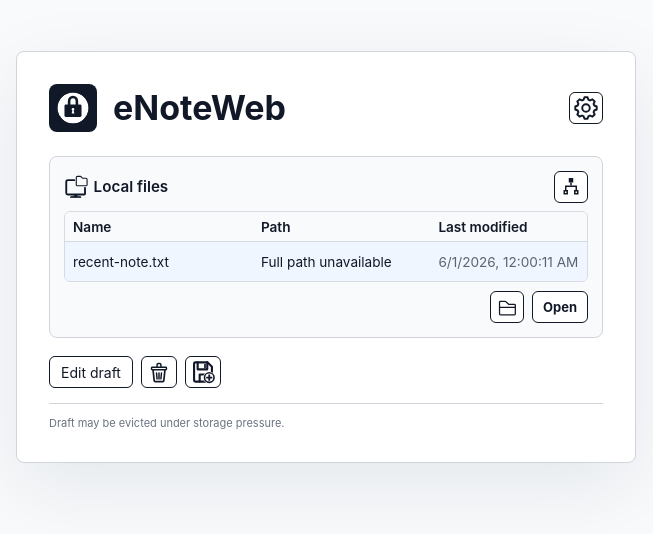
Test: App local file home screen › home Save As writes the locked draft envelope verbatim and clears after success
Click the button named "Save As" at coordinates (203, 372), box [185,356,221,388]
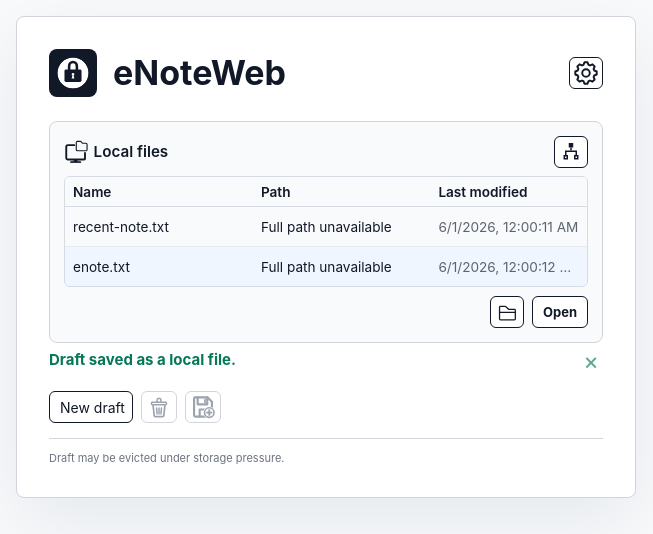
Expected: the text "Draft saved as a local file." is shown, [49,350,236,369]
Expected: the button "New draft" is shown, [49,391,133,423]
